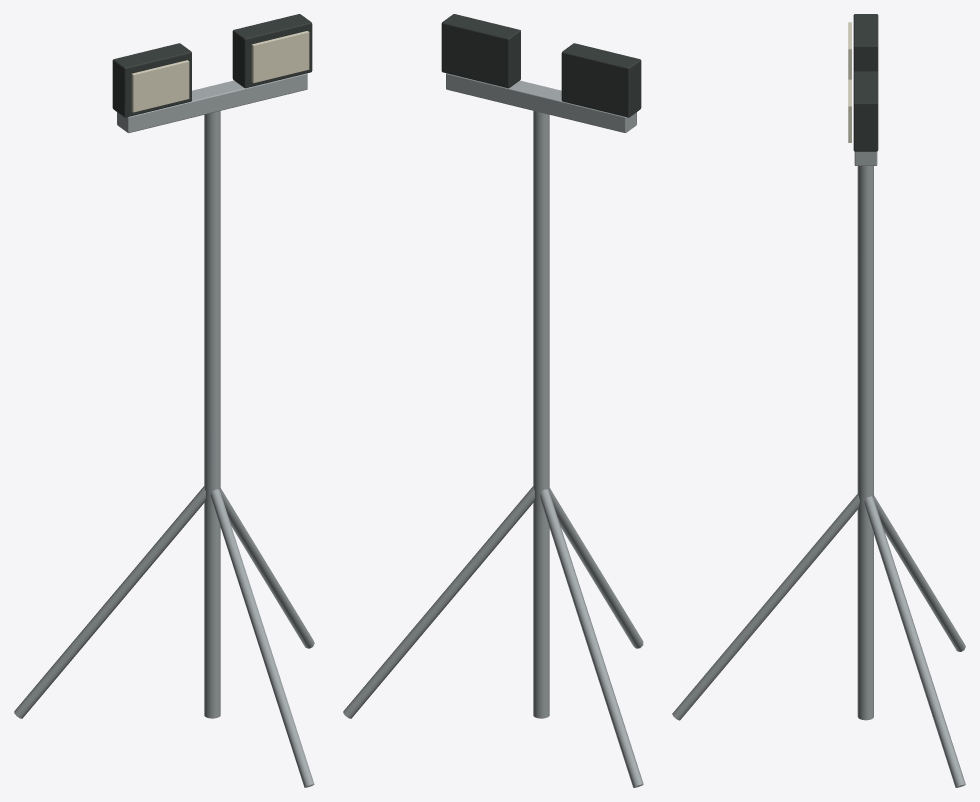
The model's file is off-grid-power-and-controls-tripod-light-2ccc33ac__3022.glb.
The picture shows the model from 3 angles, left to right: view 1: azimuth 30°, elevation 25°; view 2: azimuth 150°, elevation 25°; view 3: azimuth 270°, elevation 25°; orthographic projection. The views are drawn at different scales.
Visible parts, largest first — view 1: tripod-light; view 2: tripod-light; view 3: tripod-light.
Part boxes in pixels (left/top/right/bottom): tripod-light: left=14, top=14, right=314, bottom=787; tripod-light: left=343, top=14, right=643, bottom=787; tripod-light: left=672, top=14, right=965, bottom=787.
Bounding box in the file's own units: 0.7474 × 1.62 × 0.6509.
